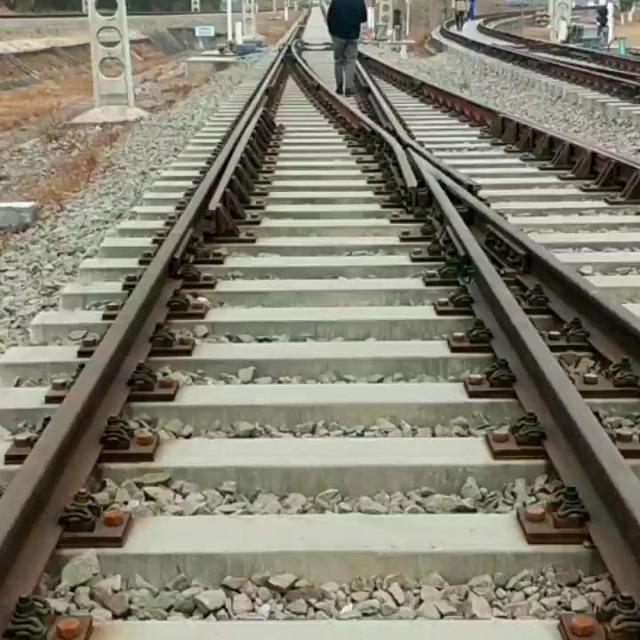rail: (1, 21, 301, 638), (408, 148, 640, 601), (422, 159, 640, 371), (363, 53, 640, 203), (295, 42, 420, 189), (441, 12, 640, 98), (356, 61, 481, 191), (477, 14, 640, 72)
